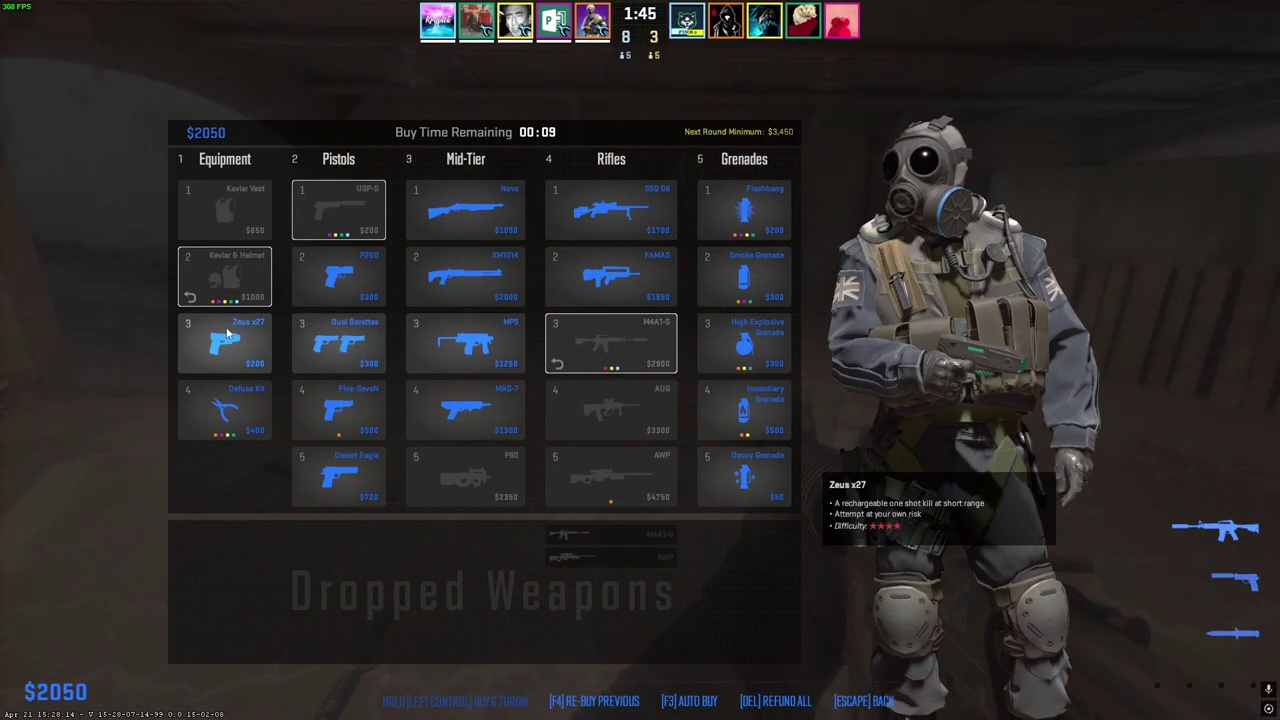CT: (853, 121, 1076, 720)
